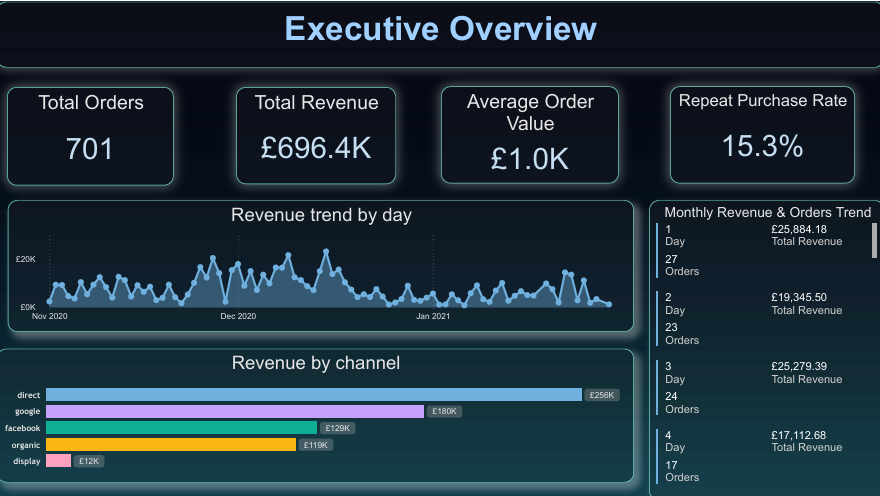

The dashboard page shown, as its layout file describes it:
{"tool":"powerbi","page":{"name":"Executive Overview","canvas":[1280,720],"ordinal":0},"visuals":[{"type":"textbox","box":[0,0,1280,95],"z":0},{"type":"card","title":"Total Revenue","fields":{"Values":["Measure Table.Total Revenue"]},"box":[345,122.5,230,140],"z":1000},{"type":"card","title":"Total Orders","fields":{"Values":["Measure Table.Orders"]},"box":[15,122.5,240,142.5],"z":2000},{"type":"card","title":"Average Order Value","fields":{"Values":["Measure Table.AOV"]},"box":[640,122,256,140],"z":3000},{"type":"card","title":"Repeat Purchase Rate","fields":{"Values":["Measure Table.Repeat Rate"]},"box":[970,122,266,140],"z":4000},{"type":"multiRowCard","title":"Monthly Revenue & Orders Trend","fields":{"Values":["fact_crm_orders_transactions.order_date.Variation.Date Hierarchy.Day","Measure Table.Total Revenue","Measure Table.Orders"]},"box":[940,286,340,434],"z":5000},{"type":"areaChart","title":"Revenue trend by day","fields":{"Y":["Measure Table.Total Revenue"],"Category":["fact_crm_orders_transactions.order_date.Variation.Date Hierarchy.Year","fact_crm_orders_transactions.order_date.Variation.Date Hierarchy.Quarter","fact_crm_orders_transactions.order_date.Variation.Date Hierarchy.Month","fact_crm_orders_transactions.order_date.Variation.Date Hierarchy.Day"]},"box":[16,286,902,190],"z":6000},{"type":"clusteredBarChart","title":"Revenue by channel","fields":{"Category":["dim_campaigns.channel"],"Y":["Measure Table.Total Revenue"]},"box":[0,500,917.5,192.5],"z":7000}]}

Visuals, with their boxes in screenshot pixels (x1, y1, x2, y2), scaled from the page's 1280x720 canvas onto the 880x496 screenshot:
textbox: left=0, top=0, right=879, bottom=65
"Total Revenue" card: left=237, top=84, right=395, bottom=181
"Total Orders" card: left=10, top=84, right=175, bottom=183
"Average Order Value" card: left=440, top=84, right=616, bottom=180
"Repeat Purchase Rate" card: left=667, top=84, right=850, bottom=180
"Monthly Revenue & Orders Trend" multiRowCard: left=646, top=197, right=879, bottom=495
"Revenue trend by day" areaChart: left=11, top=197, right=631, bottom=328
"Revenue by channel" clusteredBarChart: left=0, top=344, right=631, bottom=477
